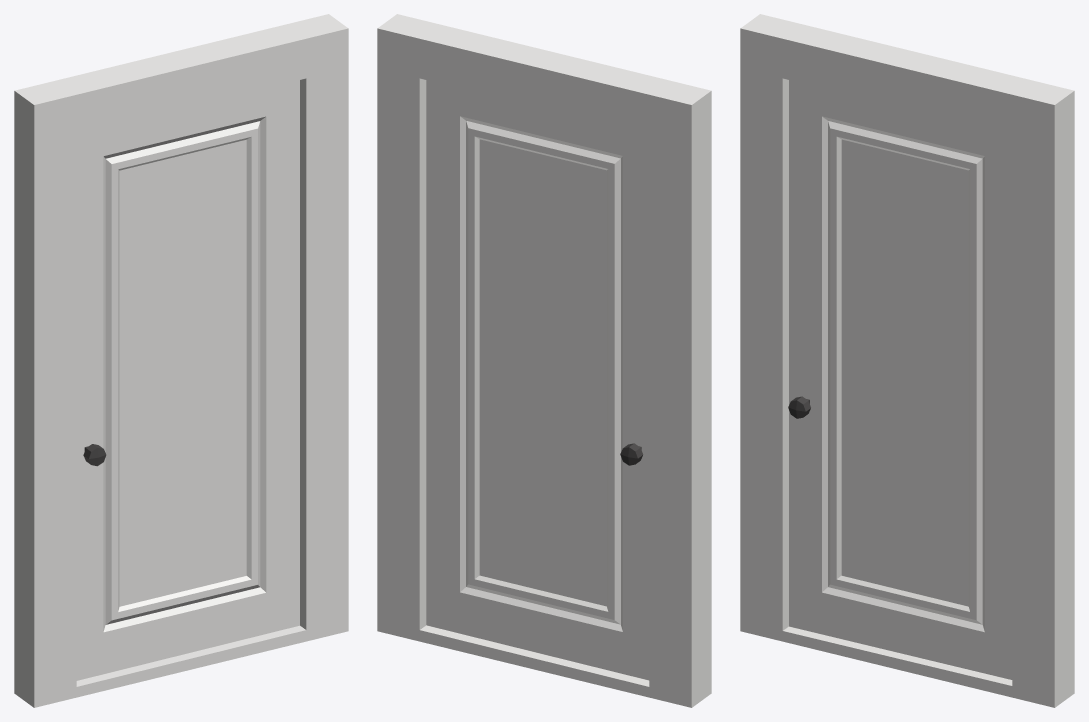
The model's file is Door_4.fbx.
The picture shows the model from 3 angles, left to right: view 1: azimuth 30°, elevation 25°; view 2: azimuth 150°, elevation 25°; view 3: azimuth 330°, elevation 25°; orthographic projection.
Visible parts, largest first — view 1: Door_4; view 2: Door_4; view 3: Door_4.
Part boxes in pixels (x1=…): Door_4: x1=14, y1=14, x2=348, y2=707; Door_4: x1=377, y1=14, x2=711, y2=707; Door_4: x1=740, y1=14, x2=1074, y2=707.
Bounding box in the file's own units: 157 × 23.99 × 289.
